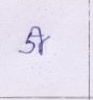i_matra: (32, 26, 48, 54)
